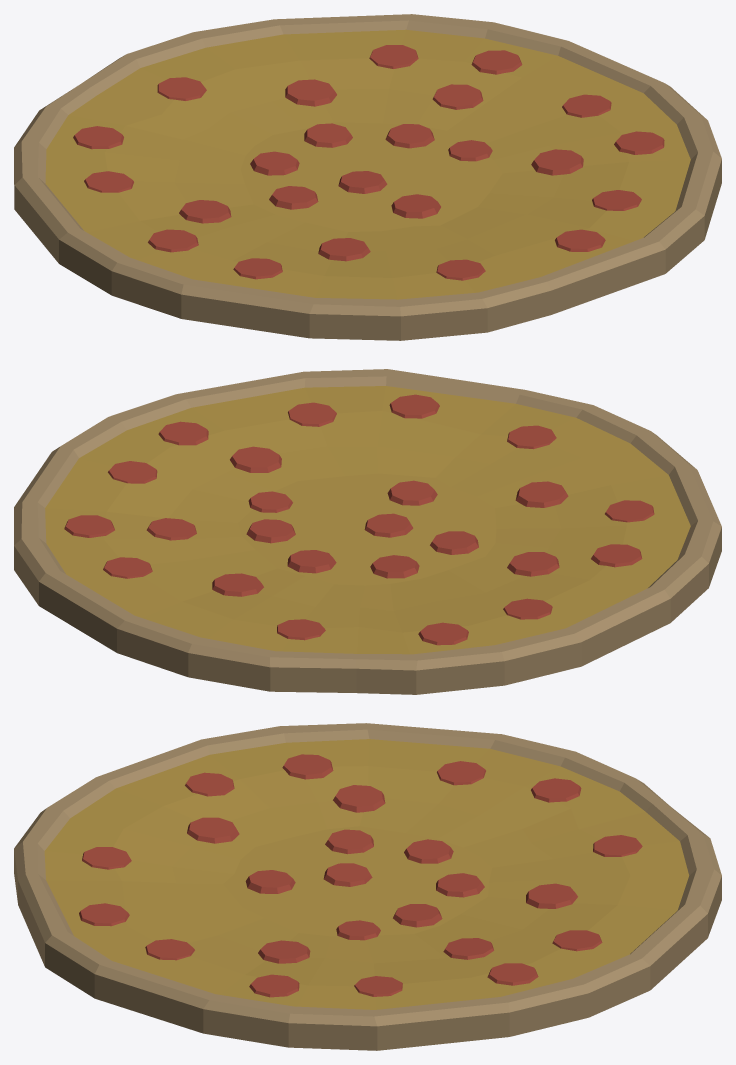
Rendered from Pizza.obj.
3 renders of one model, top to bottom at view 1: azimuth 30°, elevation 25°; view 2: azimuth 150°, elevation 25°; view 3: azimuth 270°, elevation 25°, orthographic.
Parts seen in each view (by area): view 1: mesh_1, mesh_0, mesh_2; view 2: mesh_1, mesh_0, mesh_2; view 3: mesh_1, mesh_0, mesh_2.
Part boxes in pixels (x1,y1,x2,y2): mesh_1: (45, 29, 690, 299); mesh_0: (14, 14, 721, 340); mesh_2: (73, 45, 664, 280); mesh_1: (45, 386, 690, 654); mesh_0: (14, 369, 721, 694); mesh_2: (64, 394, 654, 645); mesh_1: (44, 739, 689, 1009); mesh_0: (14, 723, 721, 1050); mesh_2: (79, 754, 642, 997).
Bounding box in the file's own units: 3.37 × 0.1609 × 3.36.
